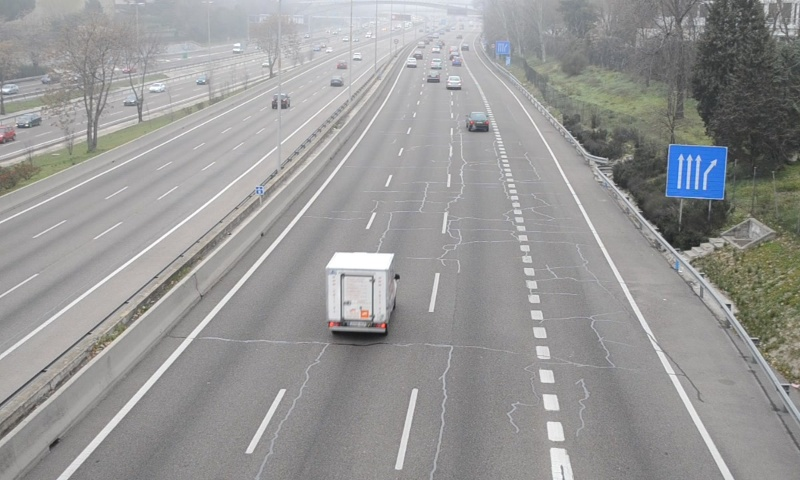car: (467, 110, 490, 130)
small-truck: (326, 252, 399, 336)
